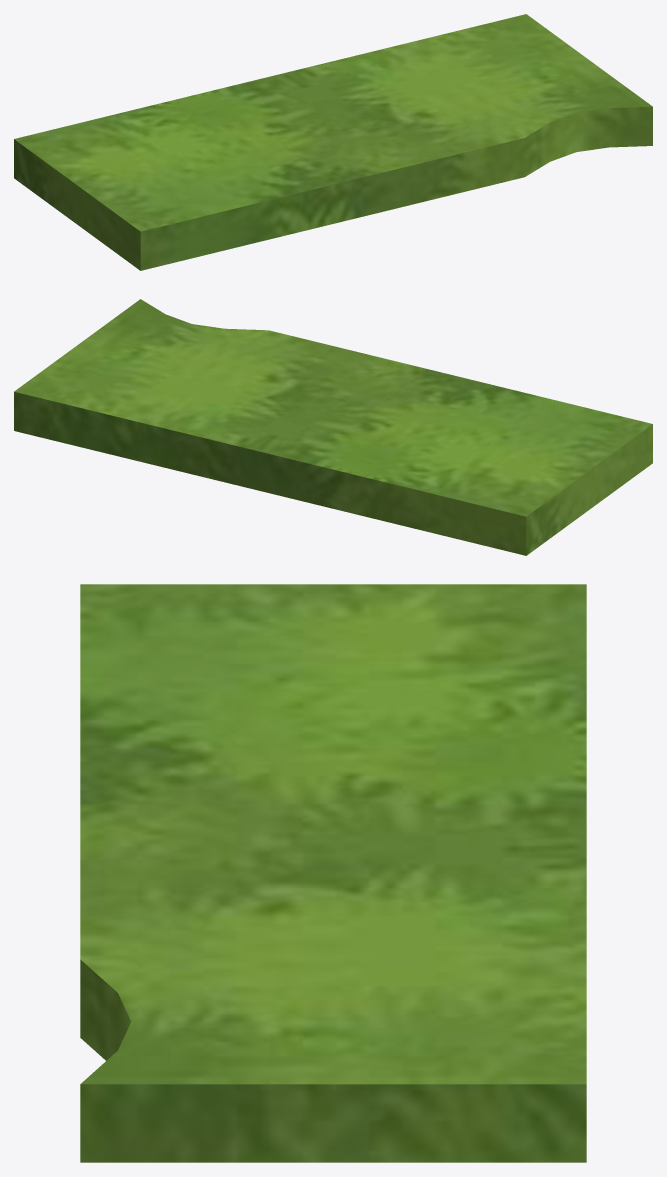
Rendered from Platform04.fbx.
3 views of the same model, one above another, from view 1: azimuth 30°, elevation 25°; view 2: azimuth 150°, elevation 25°; view 3: azimuth 270°, elevation 25° (orthographic). The views are drawn at different scales.
Parts seen in each view (by area): view 1: Cube__2_; view 2: Cube__2_; view 3: Cube__2_.
Part boxes in pixels (left/top/right/bottom): Cube__2_: left=14, top=14, right=652, bottom=270; Cube__2_: left=14, top=299, right=652, bottom=555; Cube__2_: left=80, top=584, right=586, bottom=1162.
Bounding box in the file's own units: 5335 × 391 × 2283.
